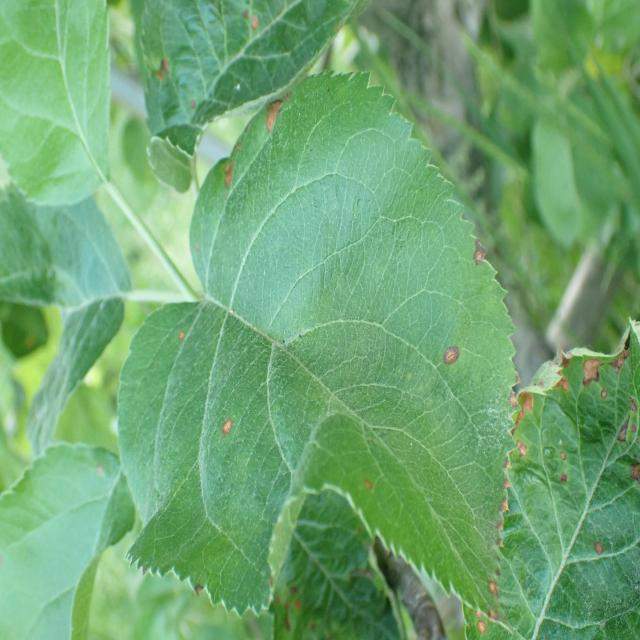frog-eye-leaf-spot: (116, 71, 522, 630), (477, 317, 639, 640), (138, 1, 364, 190)
